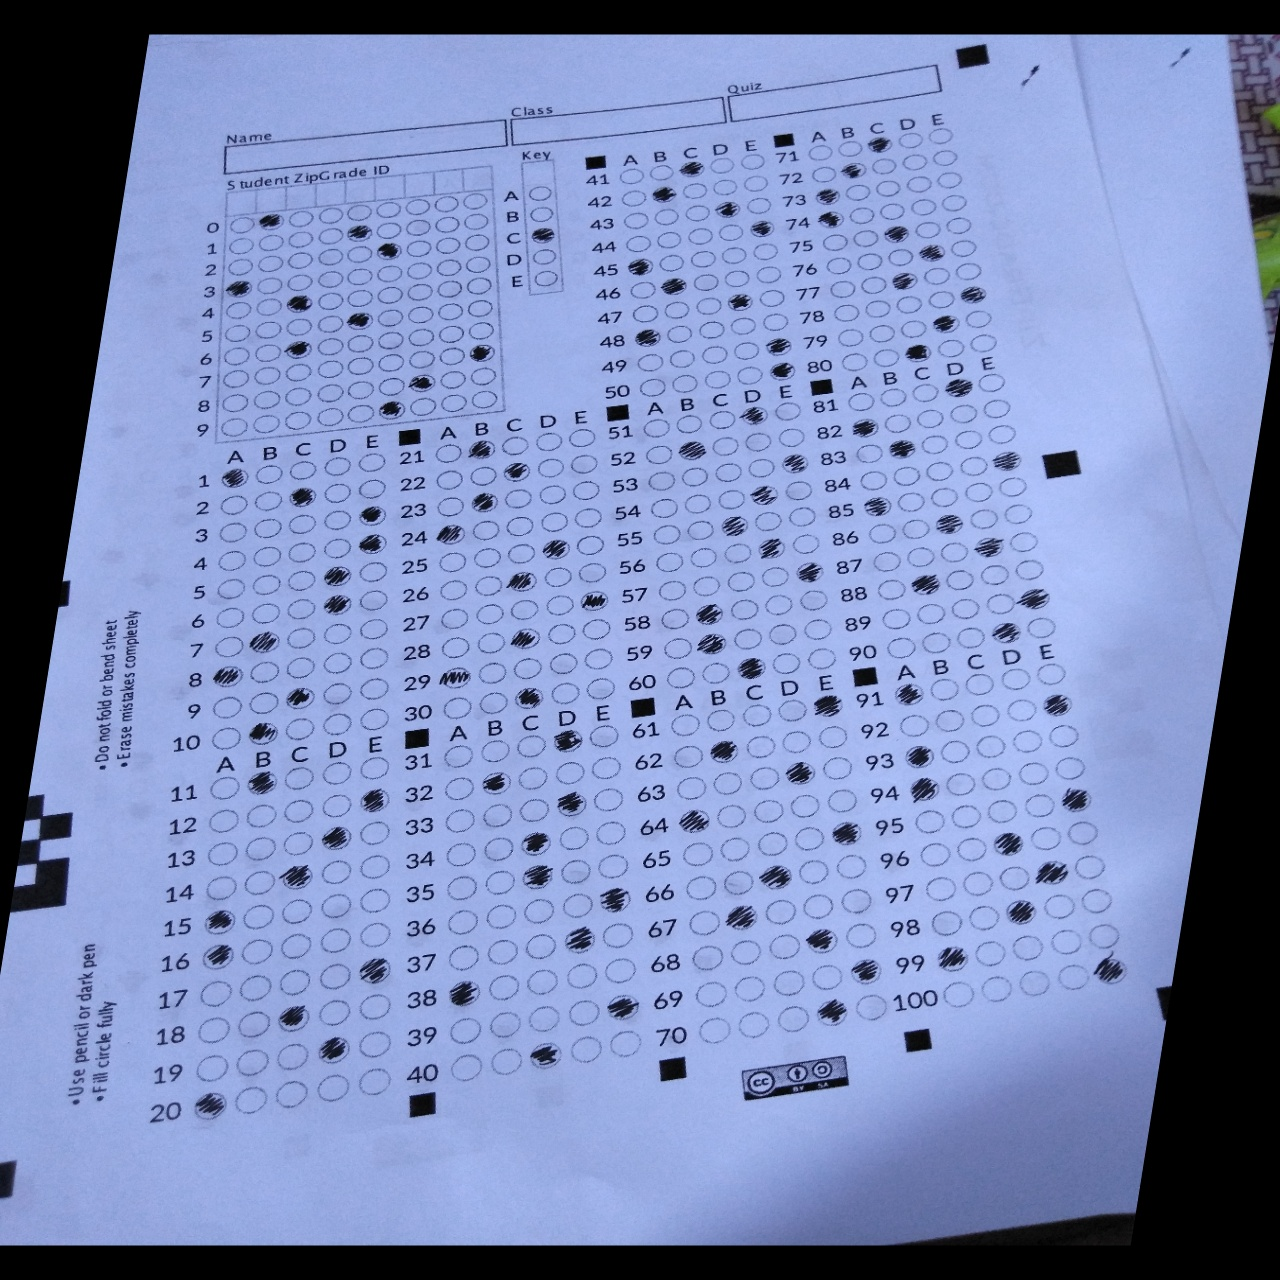not-c: (765, 967, 809, 998), (934, 981, 978, 1012), (849, 994, 893, 1023), (1074, 885, 1118, 914), (726, 973, 770, 1002), (971, 939, 1015, 968), (1012, 969, 1056, 999), (972, 974, 1016, 1003), (1003, 933, 1046, 964), (520, 932, 564, 961), (273, 933, 316, 962), (689, 979, 733, 1008), (926, 908, 969, 938), (1085, 920, 1129, 949), (1044, 928, 1088, 958), (688, 1016, 731, 1046), (760, 896, 803, 925), (787, 825, 830, 855), (771, 1005, 813, 1034), (518, 896, 560, 925), (445, 1051, 488, 1081), (312, 1074, 354, 1103), (685, 945, 727, 974), (806, 961, 849, 990), (764, 931, 806, 960), (441, 908, 484, 937), (552, 824, 595, 852), (477, 869, 520, 897), (442, 942, 485, 971), (353, 1068, 396, 1096), (313, 962, 356, 990), (314, 928, 358, 956), (352, 1030, 395, 1058), (355, 993, 399, 1021), (605, 1029, 648, 1057), (564, 1034, 607, 1062), (523, 1005, 566, 1033), (564, 999, 607, 1027), (196, 979, 239, 1007), (1049, 964, 1092, 992), (730, 1012, 774, 1040), (673, 840, 716, 869), (355, 886, 397, 914), (592, 818, 634, 846), (513, 796, 556, 824), (513, 765, 556, 794), (554, 857, 597, 885), (478, 835, 520, 863), (520, 968, 563, 996), (481, 939, 523, 967), (234, 1009, 277, 1037), (190, 1054, 232, 1082), (238, 903, 280, 931), (236, 938, 278, 966), (1039, 894, 1081, 922), (751, 829, 794, 857), (747, 796, 789, 824), (792, 858, 835, 886), (785, 790, 828, 818), (842, 921, 884, 949), (1030, 660, 1073, 688), (593, 852, 636, 879), (483, 973, 526, 1000), (484, 1012, 527, 1039), (272, 1044, 315, 1071), (271, 1081, 314, 1108), (309, 999, 353, 1026), (314, 893, 358, 920), (1024, 824, 1068, 851), (682, 908, 726, 935), (679, 874, 722, 901), (992, 866, 1035, 893), (919, 876, 962, 903), (275, 968, 316, 996), (275, 898, 316, 926), (556, 891, 598, 918), (482, 903, 524, 930), (485, 1048, 527, 1075), (233, 973, 275, 1000), (193, 1015, 236, 1042), (232, 1049, 274, 1076), (231, 1087, 273, 1114), (599, 922, 641, 949), (560, 962, 602, 989), (712, 835, 754, 862), (710, 802, 753, 829), (796, 893, 838, 920), (837, 887, 879, 914), (830, 852, 872, 879), (821, 787, 863, 813), (1062, 821, 1104, 847), (1020, 790, 1062, 817), (908, 840, 951, 867), (908, 809, 951, 836), (1070, 855, 1114, 880), (978, 798, 1021, 824), (946, 805, 989, 831), (685, 945, 728, 971), (588, 787, 629, 813), (445, 1016, 486, 1043), (352, 922, 393, 949), (602, 958, 644, 985), (949, 835, 990, 862), (964, 905, 1006, 931), (956, 870, 999, 896), (715, 870, 757, 896), (801, 617, 840, 644), (942, 595, 982, 622), (699, 658, 738, 685), (724, 939, 765, 965), (202, 840, 241, 866), (206, 808, 246, 833), (815, 724, 855, 750), (672, 775, 712, 801), (951, 625, 990, 651), (787, 531, 826, 557), (881, 636, 921, 662), (962, 670, 1000, 697), (770, 651, 808, 678), (440, 744, 481, 769), (241, 836, 282, 860), (356, 821, 397, 845), (479, 803, 520, 828), (440, 775, 481, 799), (443, 840, 482, 866), (743, 765, 782, 791), (774, 699, 812, 724), (935, 738, 974, 764), (818, 755, 857, 781), (978, 763, 1016, 789), (971, 731, 1009, 757), (1008, 728, 1047, 754), (996, 666, 1035, 692), (1044, 722, 1083, 748), (1051, 754, 1090, 779), (666, 712, 704, 737), (669, 743, 708, 769), (794, 588, 832, 614), (805, 645, 844, 670), (656, 636, 695, 662), (1023, 613, 1062, 639), (912, 600, 951, 626), (877, 604, 915, 629), (779, 476, 818, 502), (280, 765, 320, 790), (203, 876, 243, 900), (241, 803, 281, 828), (316, 792, 356, 817), (550, 762, 590, 787), (588, 726, 628, 750), (476, 738, 516, 763), (441, 810, 481, 835), (931, 708, 971, 733), (965, 701, 1005, 726), (706, 771, 745, 796), (652, 606, 692, 631), (1003, 697, 1041, 723), (941, 771, 979, 797), (1015, 760, 1053, 785), (689, 576, 727, 601), (762, 622, 799, 648), (279, 798, 320, 822), (587, 755, 626, 779), (444, 874, 483, 899), (738, 704, 777, 729), (777, 730, 816, 755), (701, 708, 740, 733), (653, 578, 692, 602), (729, 626, 768, 651), (918, 631, 956, 655), (785, 505, 824, 530), (721, 568, 760, 593), (663, 663, 700, 689), (316, 860, 356, 884), (241, 871, 281, 894), (277, 832, 316, 856), (513, 767, 553, 790), (742, 735, 779, 760), (896, 714, 933, 738), (688, 574, 726, 599), (651, 549, 688, 573), (678, 490, 715, 515), (676, 464, 714, 489), (726, 597, 763, 621), (748, 509, 785, 533), (502, 515, 540, 538), (578, 617, 617, 640), (508, 598, 546, 621), (319, 713, 358, 736), (318, 761, 356, 784), (515, 735, 553, 758), (925, 678, 964, 701), (999, 503, 1037, 526), (680, 518, 719, 542), (1005, 530, 1041, 554), (1009, 558, 1046, 583), (709, 461, 745, 485), (743, 456, 779, 481), (358, 855, 397, 877), (537, 510, 574, 533), (535, 483, 572, 506), (440, 634, 477, 658), (544, 652, 581, 675), (510, 658, 547, 681), (472, 632, 510, 655), (207, 776, 245, 799), (358, 756, 395, 779), (282, 597, 320, 620), (247, 660, 285, 683), (207, 728, 245, 751), (209, 695, 246, 719), (980, 593, 1017, 617), (568, 481, 607, 503), (501, 543, 539, 565), (474, 661, 512, 683), (318, 651, 356, 673), (318, 622, 356, 645), (244, 692, 282, 714), (712, 486, 750, 509), (760, 594, 798, 617), (358, 588, 394, 612), (539, 565, 576, 588), (472, 602, 509, 626), (355, 708, 392, 731), (355, 618, 392, 641), (757, 565, 794, 588), (501, 488, 538, 510), (572, 535, 610, 557), (469, 546, 506, 568), (436, 607, 474, 629), (580, 647, 618, 669), (546, 681, 584, 703), (474, 690, 511, 713), (542, 622, 579, 645), (358, 678, 395, 700), (584, 678, 621, 700), (282, 627, 320, 649), (248, 602, 286, 625), (211, 636, 248, 659), (209, 607, 246, 629), (719, 542, 756, 564), (640, 443, 675, 467), (899, 517, 934, 540), (914, 407, 949, 430), (358, 647, 394, 669), (282, 658, 319, 680), (871, 550, 905, 573), (855, 441, 888, 464), (903, 545, 937, 568), (570, 506, 607, 527), (470, 576, 508, 597), (320, 683, 358, 704), (282, 719, 320, 740), (431, 441, 467, 463), (533, 457, 568, 479), (437, 579, 472, 601), (996, 476, 1032, 498), (966, 508, 1001, 530), (741, 430, 776, 452), (877, 386, 912, 408), (672, 415, 707, 437), (687, 545, 720, 568), (574, 561, 611, 583), (358, 561, 394, 583), (438, 697, 475, 719), (922, 459, 956, 482), (874, 578, 908, 600), (651, 524, 685, 546), (648, 497, 682, 519), (962, 481, 996, 503), (944, 568, 978, 591), (908, 381, 942, 403), (951, 428, 985, 450), (946, 403, 980, 425), (986, 422, 1020, 444), (881, 411, 915, 434), (704, 410, 738, 433), (641, 417, 675, 440), (467, 465, 502, 486), (532, 433, 567, 454), (497, 436, 532, 457), (434, 551, 469, 572), (542, 595, 577, 617), (866, 523, 901, 544), (644, 471, 679, 492), (956, 455, 992, 476), (978, 561, 1013, 583), (979, 399, 1014, 420), (973, 372, 1008, 393), (706, 436, 741, 457), (774, 427, 806, 449), (471, 519, 505, 540), (567, 427, 601, 448), (435, 496, 469, 517), (433, 469, 467, 490), (896, 490, 930, 511), (890, 467, 924, 488), (856, 470, 890, 491), (928, 486, 962, 508), (938, 540, 972, 561), (772, 401, 806, 422), (915, 434, 949, 455), (321, 456, 354, 477), (320, 483, 353, 504), (355, 451, 388, 472), (286, 570, 319, 591), (216, 550, 248, 571), (846, 392, 879, 413), (320, 511, 353, 532), (320, 538, 353, 559), (567, 455, 601, 475), (218, 493, 250, 515), (358, 479, 389, 501), (284, 209, 316, 229), (284, 515, 316, 535), (250, 574, 282, 594), (250, 546, 282, 566), (252, 491, 285, 511), (215, 579, 247, 599), (216, 523, 248, 543), (720, 268, 753, 288), (903, 173, 935, 193), (282, 409, 313, 430), (376, 352, 408, 372), (463, 277, 495, 297), (462, 256, 493, 275), (284, 316, 315, 336), (286, 542, 318, 561), (252, 518, 284, 538), (743, 195, 775, 215), (665, 324, 696, 343), (693, 297, 724, 316), (830, 304, 862, 324), (638, 379, 669, 399), (622, 234, 654, 254), (619, 188, 651, 207), (932, 338, 964, 358), (874, 200, 906, 220), (896, 132, 927, 152), (835, 139, 866, 159), (372, 222, 404, 240), (434, 258, 467, 277), (343, 290, 376, 308), (282, 274, 315, 293), (284, 251, 316, 270), (248, 414, 281, 433), (345, 403, 377, 422), (343, 380, 376, 399), (645, 164, 678, 183), (699, 346, 731, 365), (869, 157, 901, 176), (282, 386, 313, 406), (314, 207, 345, 227), (531, 268, 561, 288), (433, 215, 463, 234), (254, 277, 285, 297), (256, 256, 286, 275), (313, 270, 343, 290), (288, 461, 319, 481), (617, 166, 647, 186), (749, 241, 779, 261), (629, 304, 660, 324), (839, 350, 870, 370), (926, 290, 956, 309), (372, 200, 403, 219), (431, 196, 463, 215), (527, 248, 559, 267), (525, 183, 557, 202), (468, 390, 499, 409), (374, 331, 406, 349), (407, 350, 438, 369), (402, 240, 434, 259), (433, 301, 464, 320), (431, 237, 463, 256), (462, 233, 493, 252), (343, 245, 375, 264), (407, 396, 438, 415), (251, 297, 282, 315), (256, 232, 287, 251), (219, 418, 251, 437), (220, 347, 252, 366), (222, 325, 253, 343), (223, 302, 254, 321), (224, 258, 256, 277), (251, 390, 282, 409), (252, 343, 284, 362), (252, 320, 284, 339), (343, 358, 375, 376), (345, 333, 376, 352), (777, 183, 809, 202), (760, 313, 791, 332), (754, 265, 785, 284), (738, 173, 770, 192), (662, 300, 694, 319), (659, 254, 690, 273), (687, 251, 719, 270), (683, 203, 715, 222), (680, 182, 712, 200), (730, 339, 762, 358), (734, 366, 765, 384), (727, 316, 758, 335), (719, 245, 750, 264), (925, 128, 956, 147), (823, 257, 855, 275), (619, 211, 651, 230), (966, 333, 998, 352), (885, 246, 917, 265), (871, 178, 903, 197), (897, 152, 928, 171), (947, 239, 979, 258), (939, 193, 971, 212), (933, 170, 965, 189), (862, 298, 893, 316), (855, 251, 886, 270), (840, 183, 872, 202), (893, 295, 925, 314), (402, 217, 434, 236), (225, 216, 256, 234), (343, 205, 374, 224), (402, 197, 433, 216), (525, 205, 556, 224), (463, 212, 493, 231), (438, 394, 469, 413), (376, 376, 407, 395), (376, 308, 407, 327), (373, 264, 403, 282), (406, 328, 436, 347), (406, 306, 436, 325), (406, 282, 436, 301), (404, 261, 435, 280), (436, 348, 467, 367), (436, 325, 467, 343), (467, 321, 497, 340), (467, 298, 497, 316), (343, 267, 374, 286), (219, 393, 250, 411), (227, 237, 258, 256), (282, 365, 313, 383), (314, 248, 345, 267), (316, 227, 347, 246), (285, 231, 315, 250), (252, 366, 282, 384), (314, 407, 345, 425), (314, 338, 345, 356), (314, 315, 345, 334), (316, 292, 347, 311), (253, 465, 284, 484), (709, 176, 740, 195), (757, 290, 788, 308), (736, 154, 767, 172), (651, 209, 681, 227), (695, 320, 726, 339), (690, 273, 721, 292), (685, 227, 715, 246), (828, 280, 858, 299), (821, 233, 851, 252), (810, 164, 840, 183), (804, 143, 835, 162), (635, 354, 666, 373), (627, 280, 658, 299), (835, 328, 865, 347), (912, 220, 942, 239), (907, 197, 938, 216), (964, 309, 994, 328), (942, 216, 973, 234), (930, 148, 960, 166), (867, 324, 898, 342), (859, 275, 890, 294), (851, 229, 881, 247), (846, 206, 877, 225), (899, 319, 930, 338), (314, 359, 345, 377), (459, 192, 491, 210), (433, 280, 464, 298), (665, 349, 696, 367), (653, 231, 685, 248), (871, 349, 903, 367), (952, 263, 983, 280), (438, 369, 468, 388), (376, 286, 406, 305), (222, 369, 251, 388), (315, 384, 345, 403), (670, 374, 700, 393), (702, 369, 731, 388), (717, 223, 747, 241), (922, 266, 952, 285), (468, 367, 498, 384), (704, 157, 735, 175)
taken-c: (987, 829, 1030, 859), (270, 1003, 314, 1033), (313, 1036, 356, 1065), (755, 863, 798, 892), (999, 899, 1042, 928), (525, 1041, 567, 1070), (191, 1091, 233, 1121), (896, 742, 938, 771), (903, 774, 945, 803), (810, 999, 853, 1027), (1090, 956, 1133, 985), (803, 927, 846, 955), (930, 945, 973, 973), (886, 681, 930, 709), (810, 692, 853, 720), (846, 956, 888, 985), (1032, 859, 1074, 887), (779, 758, 822, 787), (1057, 787, 1099, 815), (355, 956, 399, 983), (196, 942, 239, 969), (1039, 690, 1080, 719), (519, 864, 561, 891), (199, 908, 241, 935), (277, 864, 319, 891), (826, 821, 869, 847), (985, 621, 1027, 648), (355, 789, 399, 815), (442, 980, 485, 1006), (559, 927, 602, 953), (316, 825, 358, 852), (517, 830, 556, 858), (601, 996, 644, 1022), (721, 905, 763, 931), (594, 887, 636, 913), (552, 791, 592, 817), (906, 572, 947, 597), (1016, 586, 1055, 612), (989, 448, 1028, 474), (971, 535, 1008, 560), (883, 436, 921, 461), (931, 511, 968, 536), (512, 685, 549, 709), (437, 666, 474, 690), (246, 721, 282, 745), (550, 730, 587, 754), (282, 686, 320, 709), (207, 665, 245, 688), (956, 282, 992, 307), (243, 771, 281, 794), (508, 627, 544, 651), (676, 809, 713, 832), (707, 740, 743, 763), (859, 495, 896, 518), (477, 772, 515, 795), (790, 560, 828, 583), (539, 538, 574, 561), (734, 656, 770, 679), (941, 377, 978, 400), (927, 313, 964, 335), (900, 342, 937, 365), (247, 631, 282, 653), (321, 565, 356, 587), (577, 590, 612, 612), (747, 485, 783, 506), (467, 491, 501, 513), (694, 632, 728, 654), (692, 602, 726, 625), (719, 515, 753, 537), (320, 595, 355, 617), (355, 505, 390, 526), (506, 571, 542, 592), (809, 188, 845, 207), (465, 438, 499, 459), (286, 486, 320, 508), (219, 467, 253, 488), (755, 538, 789, 559), (847, 418, 881, 440), (837, 159, 871, 181), (356, 535, 392, 554), (433, 524, 468, 544), (812, 209, 847, 229), (880, 225, 915, 245), (888, 268, 921, 290), (736, 406, 770, 425), (767, 361, 801, 381), (914, 243, 948, 263), (376, 400, 409, 420), (501, 462, 533, 482), (676, 440, 709, 459), (779, 454, 812, 474), (763, 336, 796, 356), (726, 293, 758, 313), (865, 135, 896, 156), (659, 277, 690, 297), (343, 311, 375, 331), (374, 243, 406, 263), (624, 257, 656, 275), (632, 329, 663, 348), (710, 200, 742, 219), (407, 373, 438, 392), (467, 343, 498, 362), (284, 295, 315, 314), (254, 212, 285, 231), (649, 185, 680, 204), (676, 159, 707, 178), (282, 340, 313, 359), (343, 223, 374, 241), (525, 226, 556, 245), (747, 219, 777, 238), (223, 280, 254, 298)
